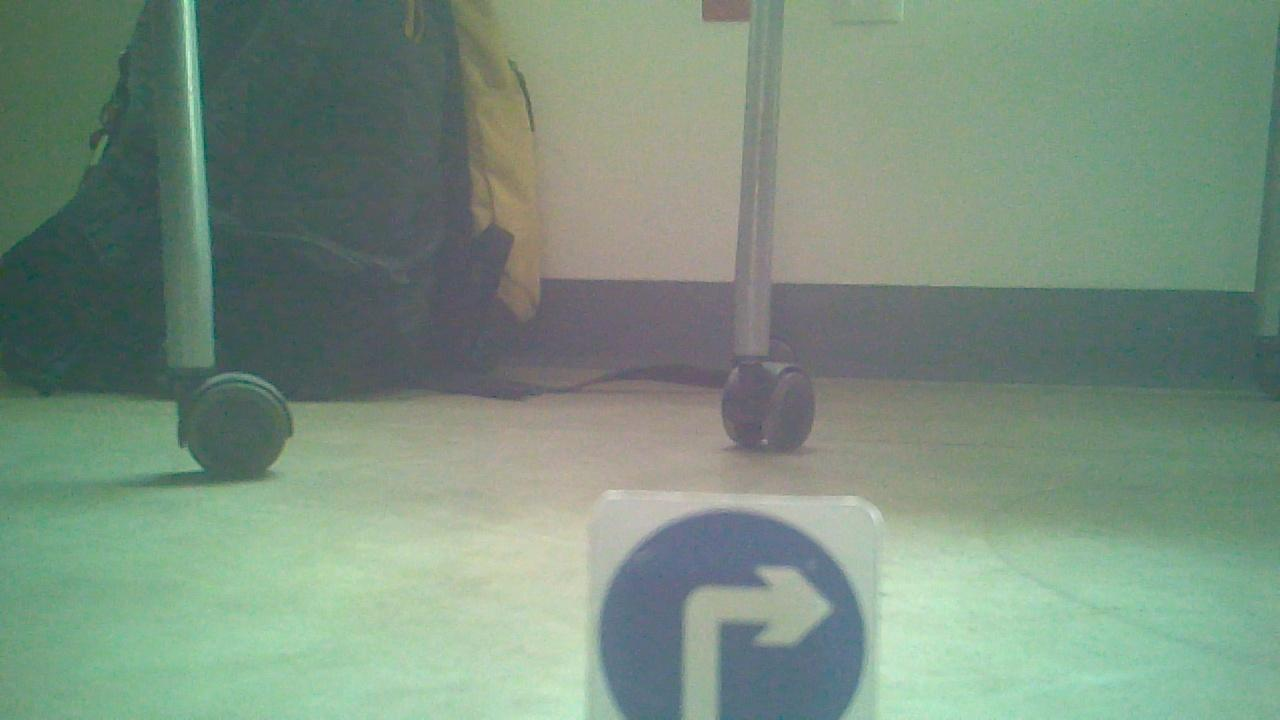turn: (597, 499, 876, 720)
